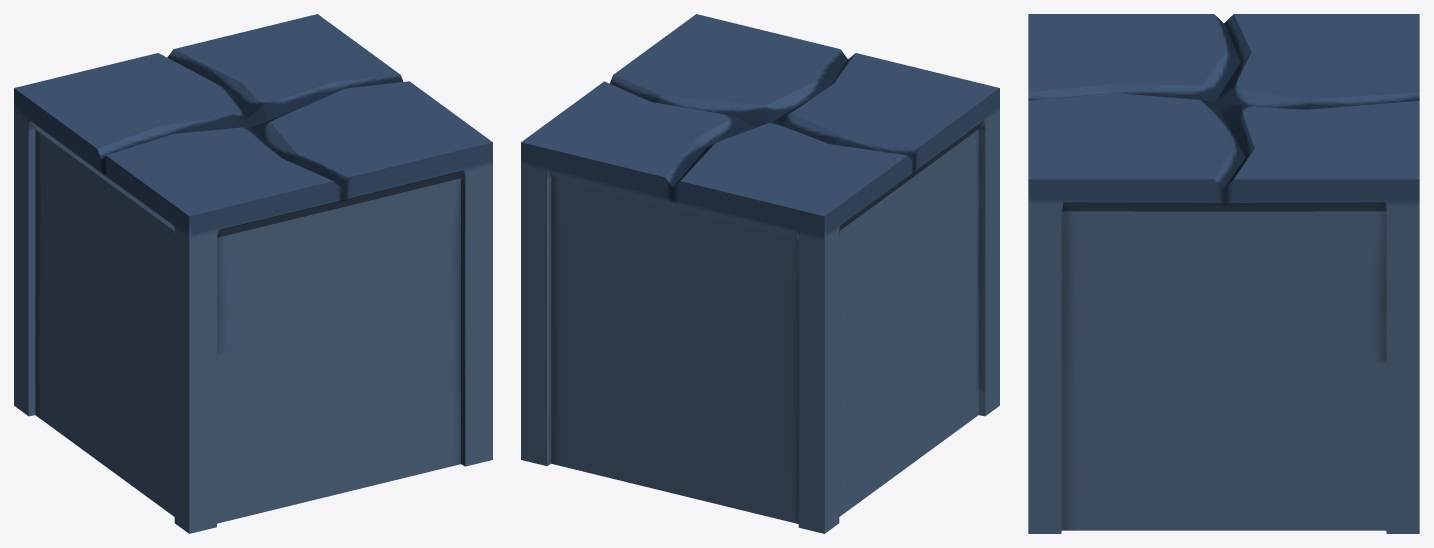
Rendered from TileV3_edited.fbx.
3 renders of one model, left to right at view 1: azimuth 30°, elevation 25°; view 2: azimuth 150°, elevation 25°; view 3: azimuth 270°, elevation 25°, orthographic. The views are drawn at different scales.
Visible parts, largest first — view 1: TileV3; view 2: TileV3; view 3: TileV3.
Part boxes in pixels (left/top/right/bottom): TileV3: left=14, top=14, right=492, bottom=533; TileV3: left=521, top=14, right=999, bottom=533; TileV3: left=1028, top=14, right=1419, bottom=533.
Bounding box in the file's own units: 5 × 5 × 5.
